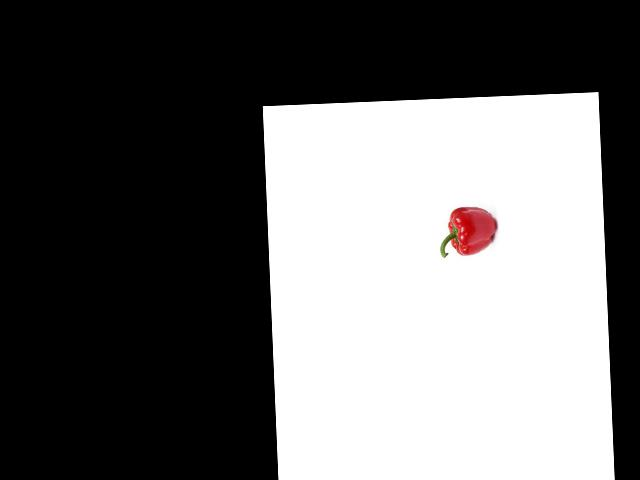bell_pepper: (437, 201, 498, 260)
